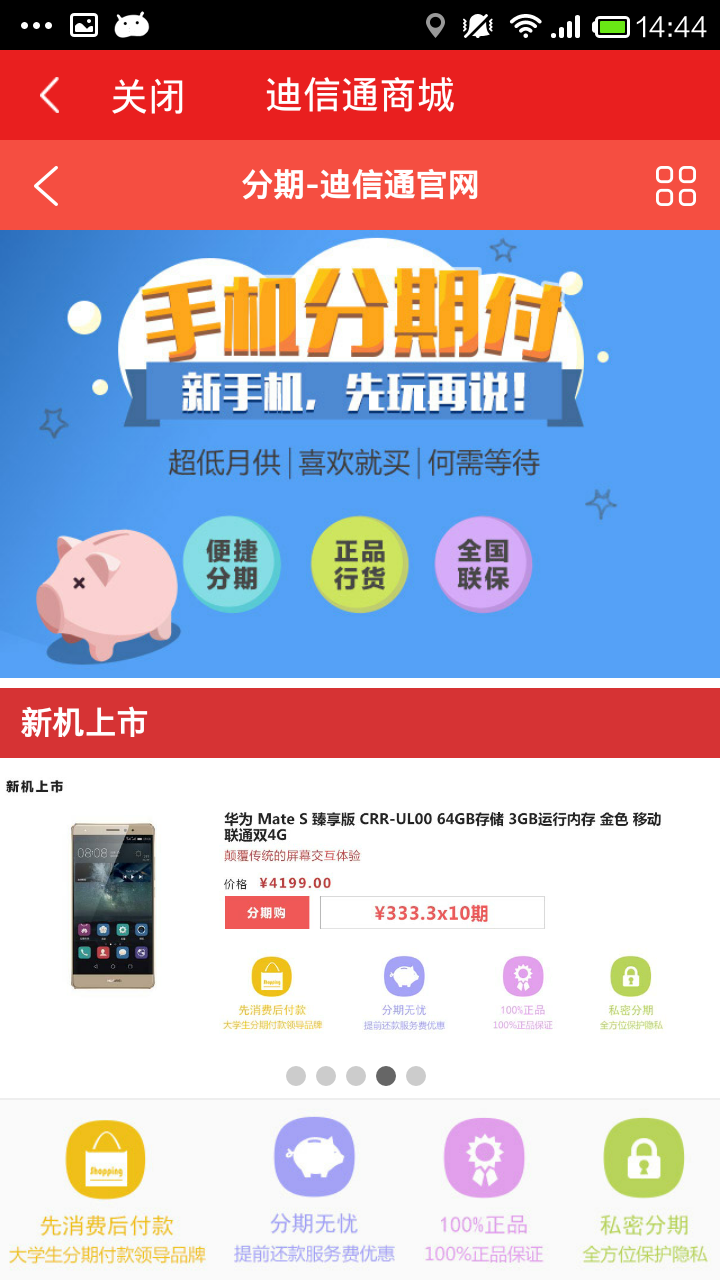checkboxs: (272, 1056, 444, 1094)
